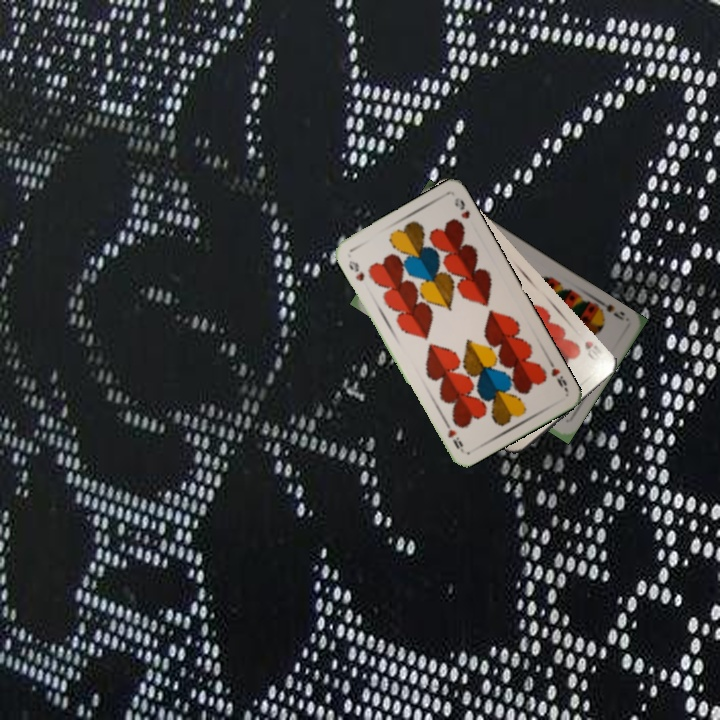H10: (580, 337, 605, 364)
H9: (544, 356, 570, 393), (344, 257, 367, 284)
S9: (592, 295, 628, 323)
